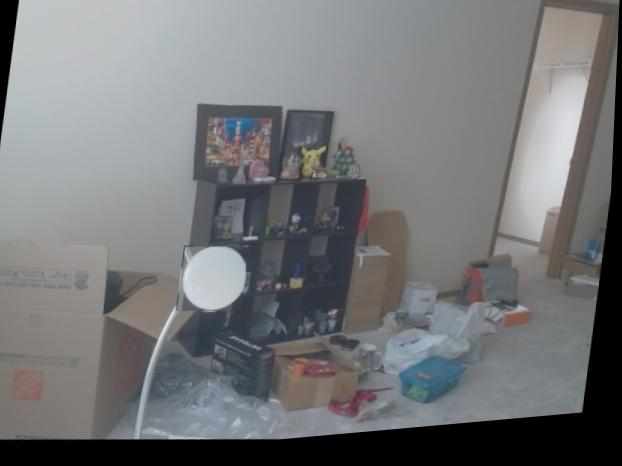Fan: (179, 245, 251, 320)
